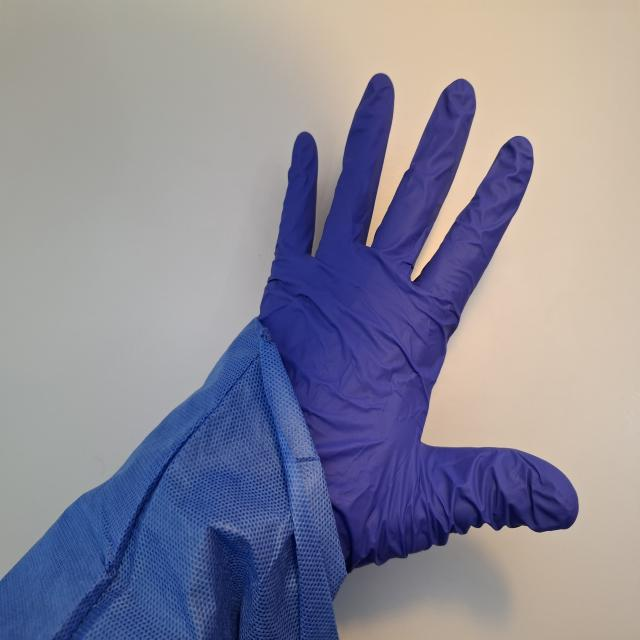glove_on: (211, 70, 582, 588)
